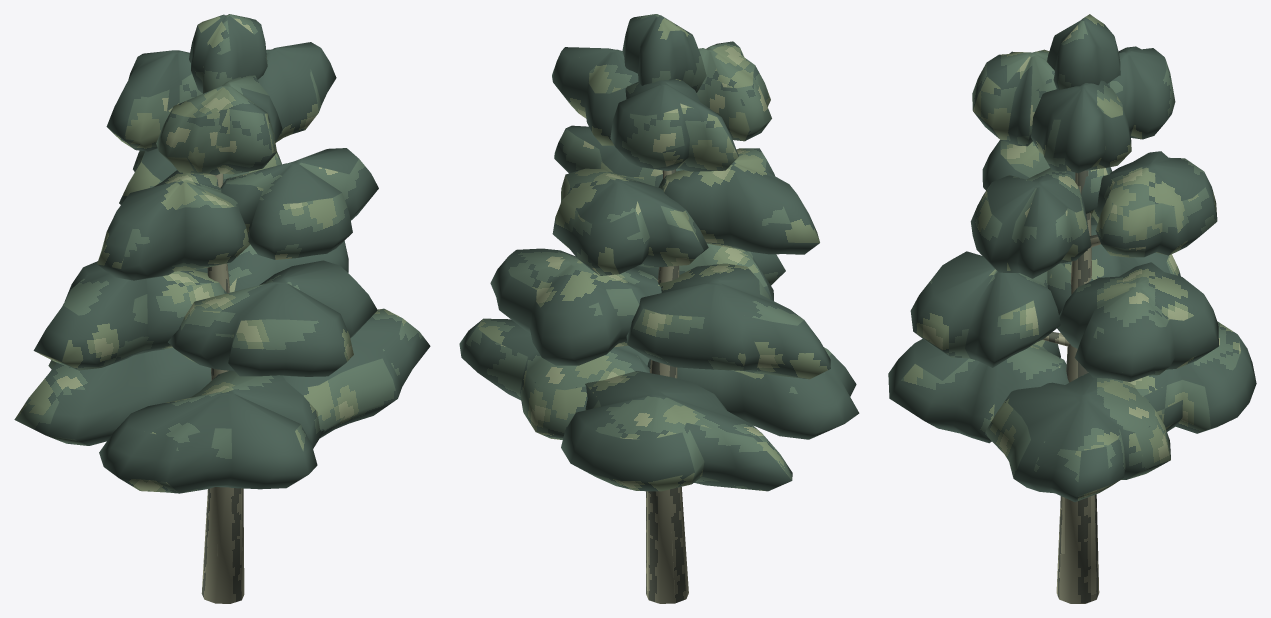
The model's file is conifer-open.glb.
3 renders of one model, left to right at view 1: azimuth 30°, elevation 25°; view 2: azimuth 150°, elevation 25°; view 3: azimuth 270°, elevation 25°, orthographic.
Visible parts, largest first — view 1: conifer-open runtime mesh; view 2: conifer-open runtime mesh; view 3: conifer-open runtime mesh.
Boxes of the visible parts, x1,y1,x2,y2 form: conifer-open runtime mesh: (14,14,430,603); conifer-open runtime mesh: (459,14,859,603); conifer-open runtime mesh: (888,14,1256,603).
Size of the model in its own units: 2.86 by 4.13 by 2.38.
2 materials, 2 textured.
